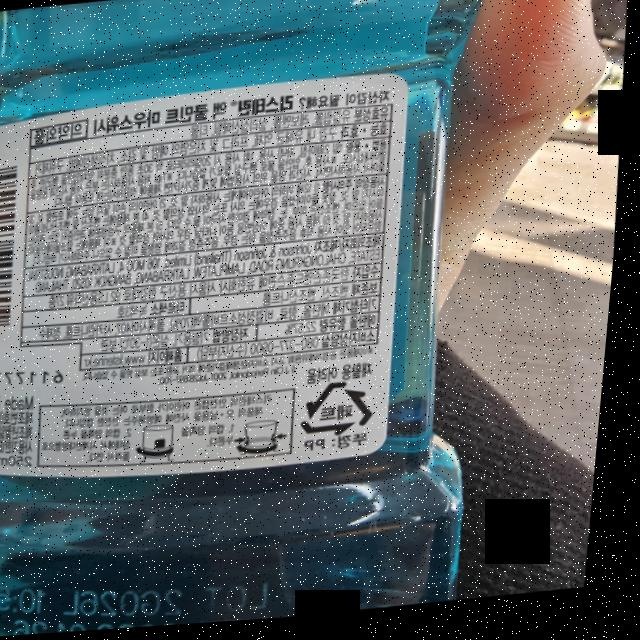PET: (302, 381, 387, 445)
